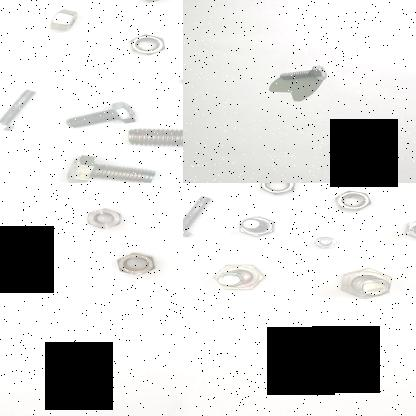Bolts: (63, 152, 161, 183), (334, 264, 402, 306), (205, 258, 271, 296), (124, 117, 183, 158), (64, 99, 138, 130), (0, 86, 39, 134), (232, 213, 288, 241), (183, 192, 217, 238), (276, 61, 334, 84), (310, 233, 344, 253), (399, 212, 416, 241)
NUTS: (45, 3, 87, 37), (113, 250, 162, 276), (126, 30, 174, 56), (330, 188, 378, 212), (84, 206, 126, 228), (257, 183, 305, 195), (0, 240, 25, 258)
